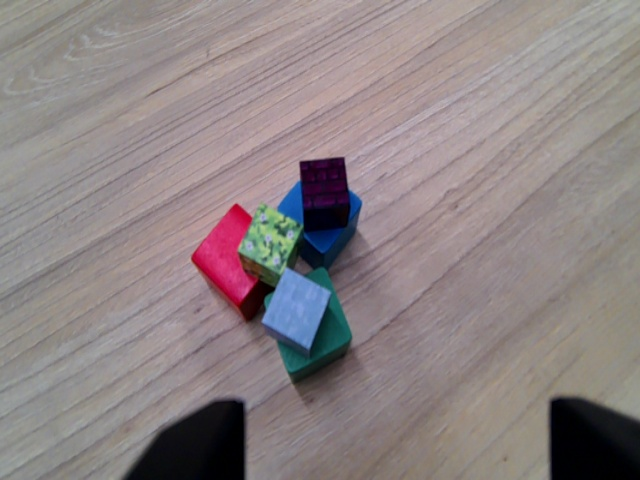brick: (296, 159, 352, 233)
grass: (241, 201, 304, 272)
stone: (265, 276, 330, 349)
